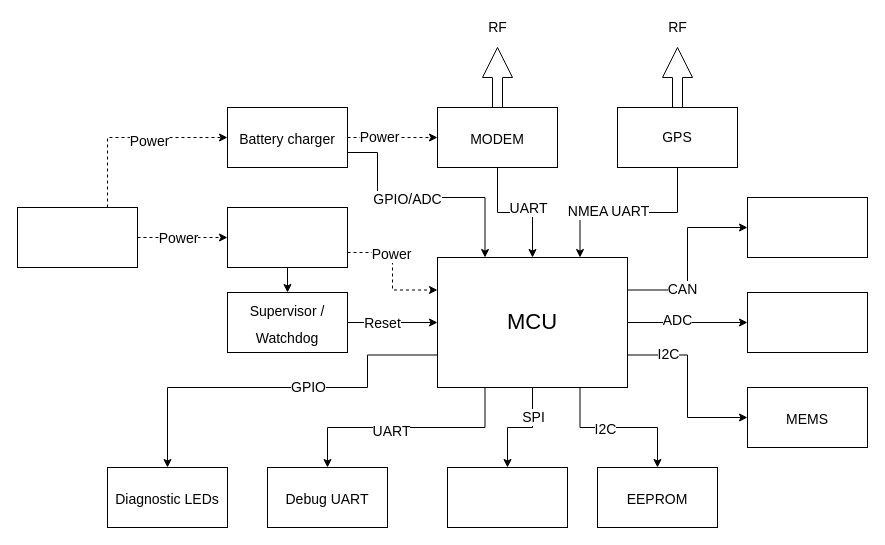
This 885x545 diagram has some shape labels left out. Here are the shapes that lost their labels. From the top down, the box of each, then its label:
(16, 206, 138, 268): DC/DC
(226, 206, 348, 268): LDO
(746, 196, 868, 258): CAN module
(746, 292, 868, 352): Light sensor
(446, 466, 568, 528): Flash
